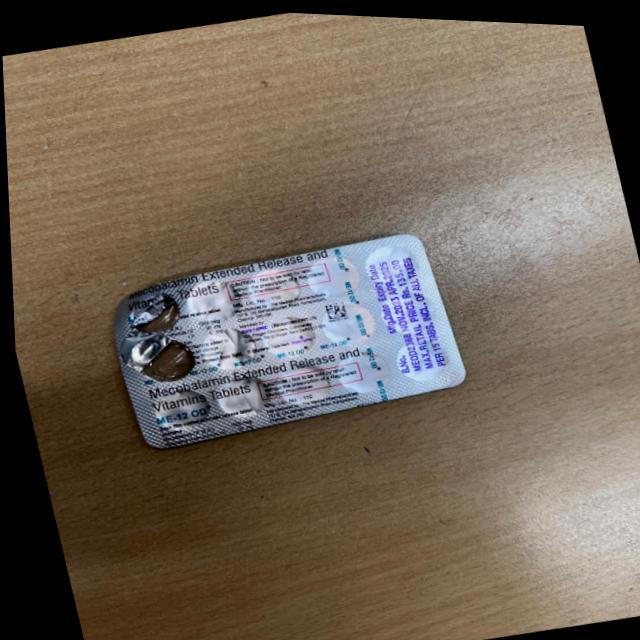medicine: (76, 209, 492, 461)
